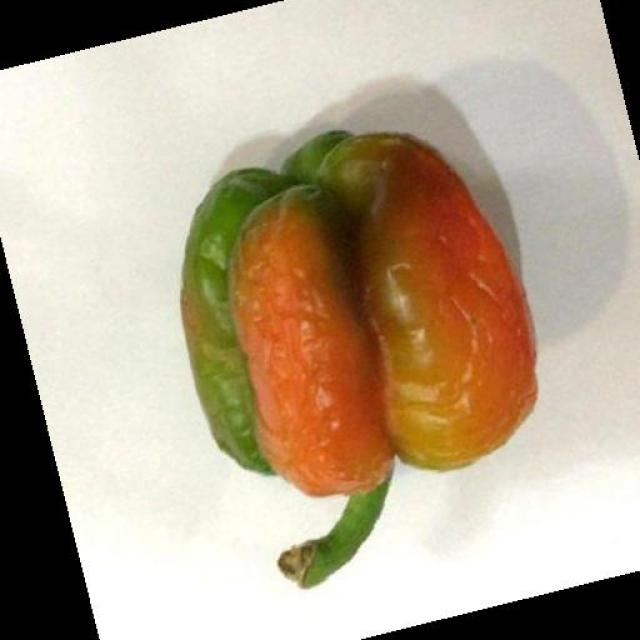Stale_Capsicum: (160, 150, 552, 577)
